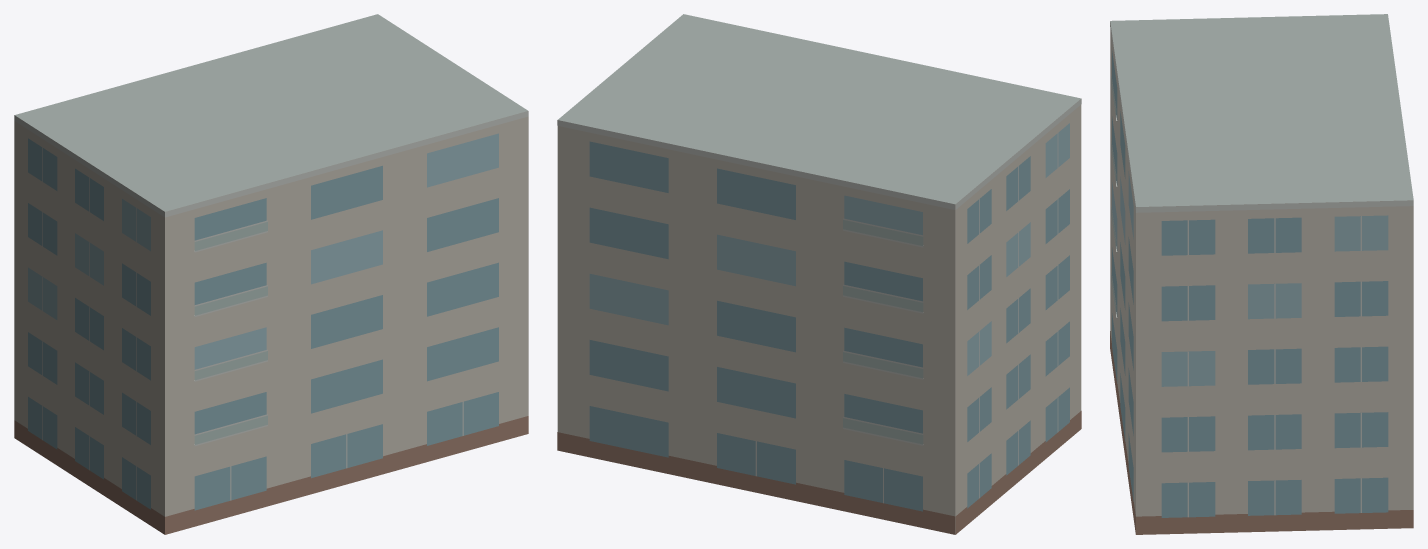
Rendered from survey-upis-32757701.glb.
The picture shows the model from 3 angles, left to right: view 1: azimuth 30°, elevation 25°; view 2: azimuth 150°, elevation 25°; view 3: azimuth 270°, elevation 25°; orthographic projection. The views are drawn at different scales.
Parts seen in each view (by area): view 1: survey-upis-32757701.tmp; view 2: survey-upis-32757701.tmp; view 3: survey-upis-32757701.tmp.
Boxes of the visible parts, x1,y1,x2,y2 form: survey-upis-32757701.tmp: [14, 14, 528, 534]; survey-upis-32757701.tmp: [557, 14, 1081, 534]; survey-upis-32757701.tmp: [1110, 14, 1413, 534].
Size of the model in its own units: 17.57 by 13.9 by 11.68.
